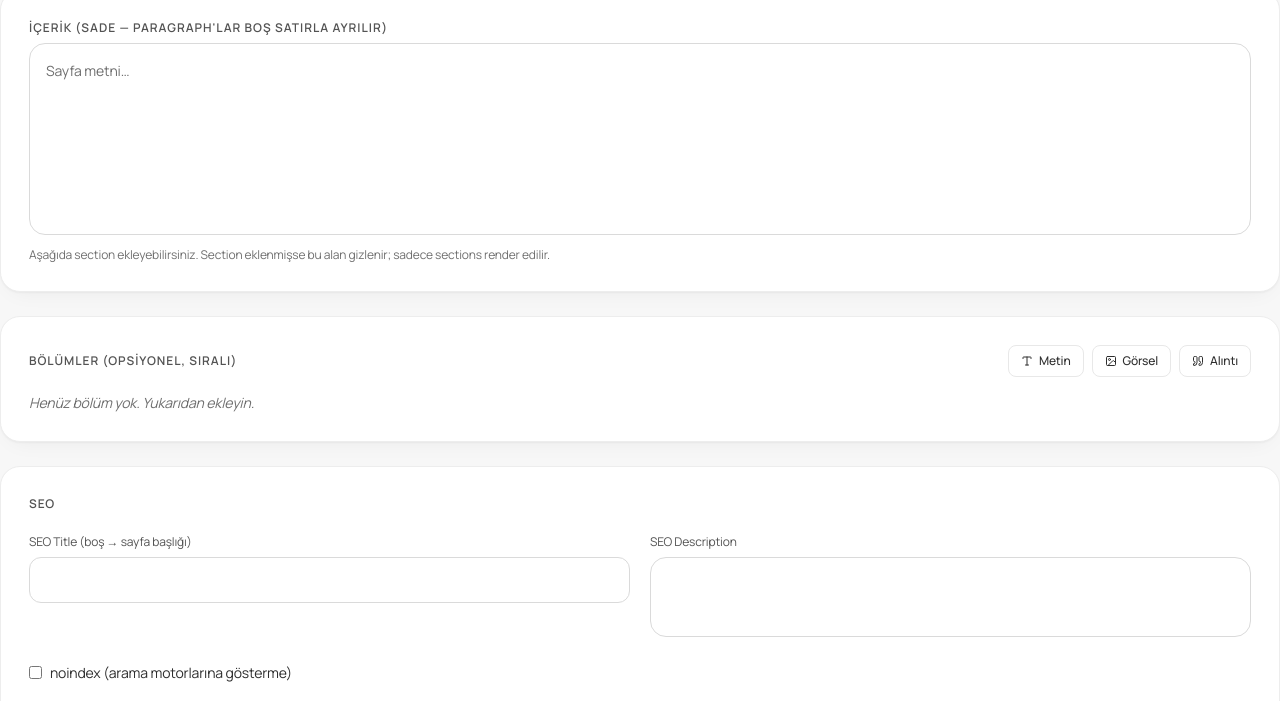
it: Phase 12 — Yeni sayfa render › section ekleme: sectionLabel dictionary'den gelir
(page scrolled)
Click the button "Metin".
click(1046, 360)  # box [1008,344,1084,376]
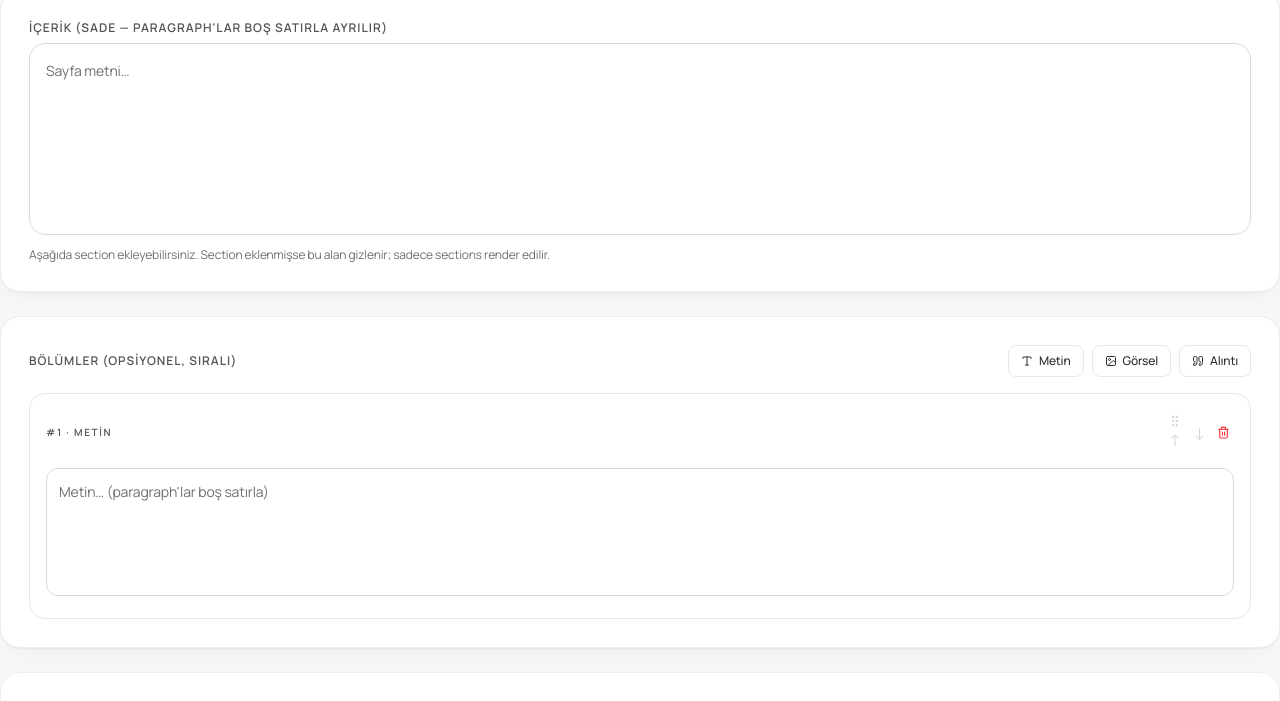
Result: the text box with placeholder "Metin… (paragraph'lar boş satırla)" is shown at [46,468,1234,596]
Result: the button titled "Yukarı" is shown at [1164,410,1186,456]
Result: the button titled "Aşağı" is shown at [1190,416,1209,448]
